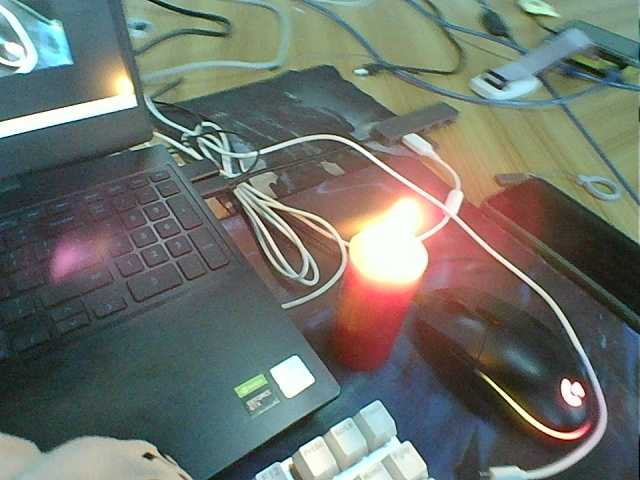candle: (325, 231, 431, 374)
fire: (361, 203, 427, 276), (100, 62, 131, 105)
